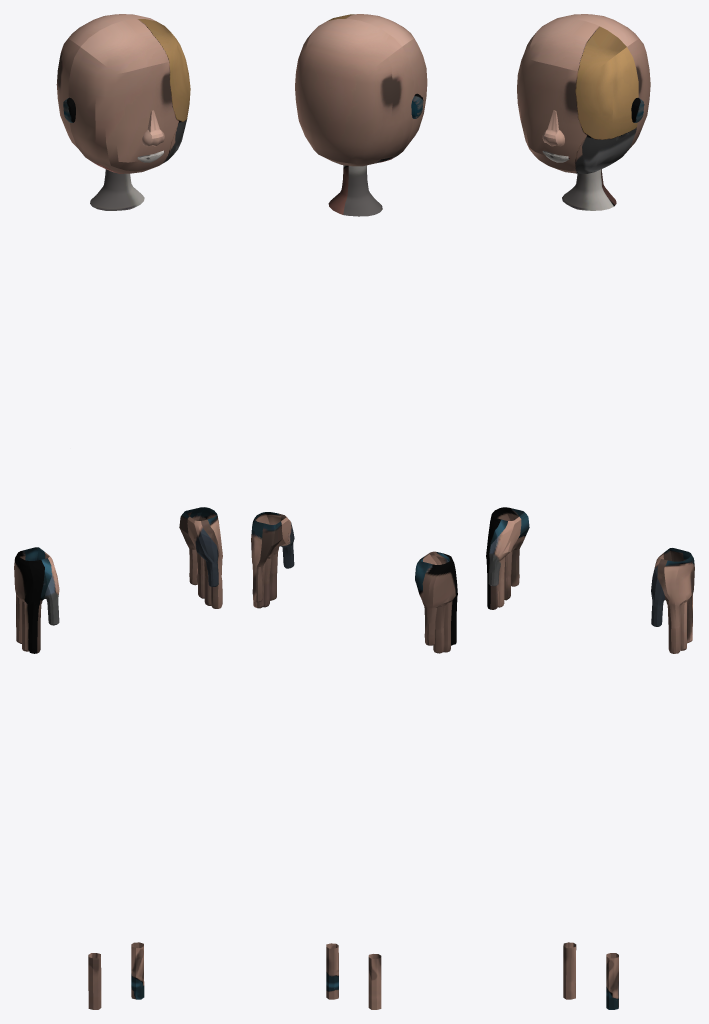
The model's file is skin.obj.
The picture shows the model from 3 angles, left to right: view 1: azimuth 30°, elevation 25°; view 2: azimuth 150°, elevation 25°; view 3: azimuth 330°, elevation 25°; orthographic projection.
Visible parts, largest first — view 1: Body.005; view 2: Body.005; view 3: Body.005.
Part boxes in pixels (x1,y1,x2,y2): Body.005: (14, 14, 222, 1009); Body.005: (251, 14, 457, 1009); Body.005: (486, 14, 694, 1009).
Bounding box in the file's own units: 0.3702 × 1.77 × 0.2186.
